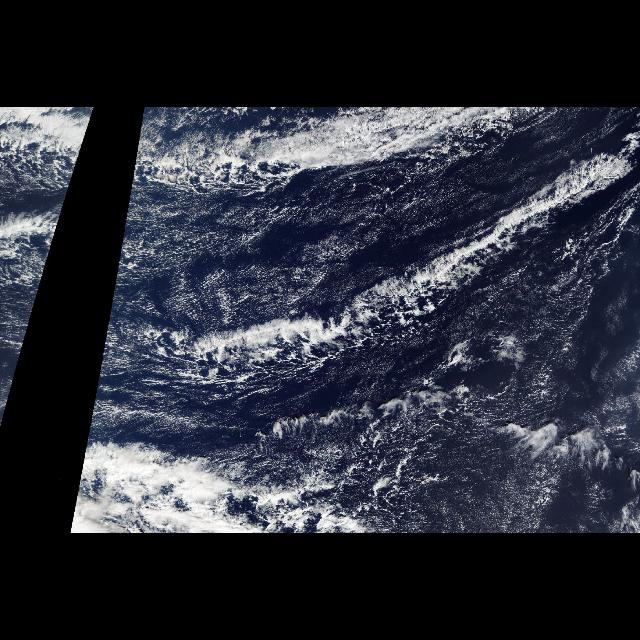Fish: (90, 107, 638, 427), (10, 112, 94, 400)
Sugar: (254, 382, 638, 530), (114, 163, 336, 311), (46, 162, 80, 262)
